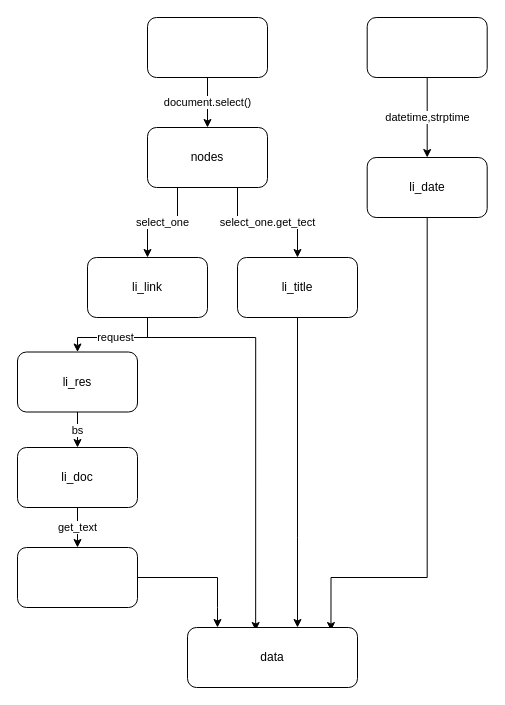
The diagram is 505 pixels wide and 705 high, and some of its shapes have lost their labels. Here are the shapes that lost their labels. From the top down, the centre of each, then its label:
At point (207, 47): "document".
At point (426, 47): "date".
At point (77, 577): "li_content".
